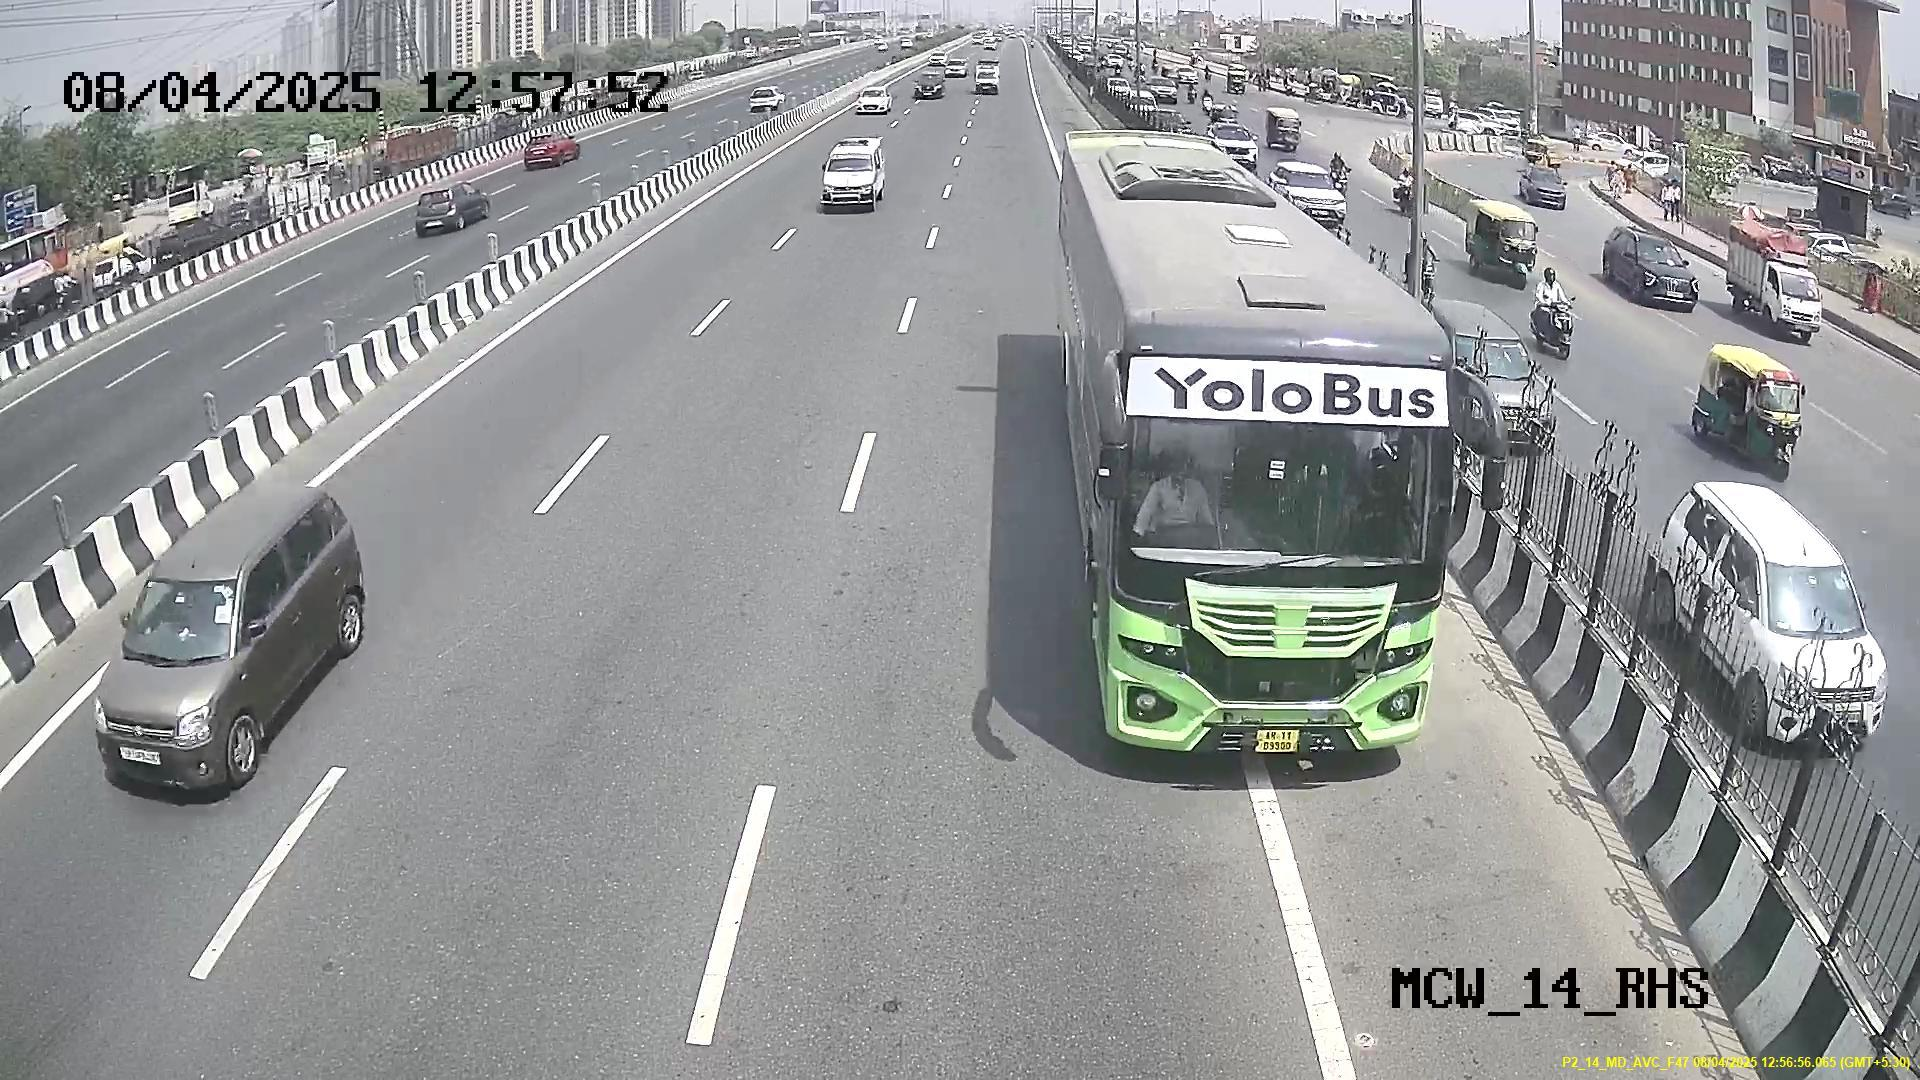bus: (1059, 247, 1453, 758)
car: (90, 526, 289, 795), (822, 133, 887, 214)
